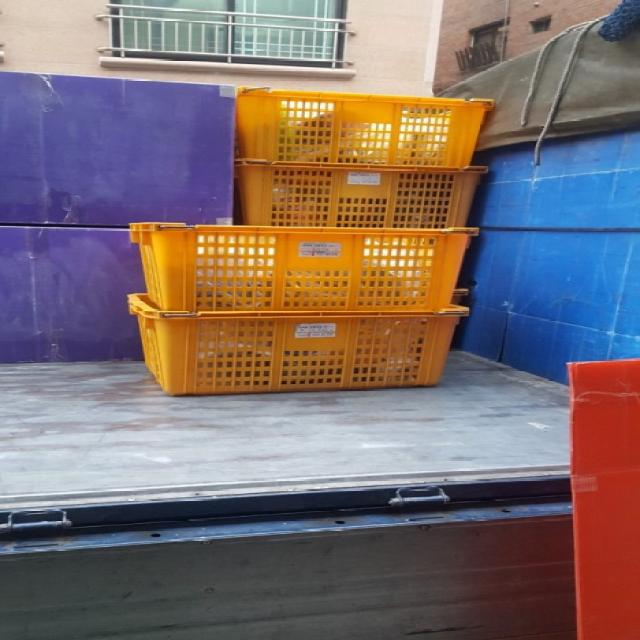basket: (124, 295, 469, 405), (129, 224, 479, 316), (233, 86, 493, 173), (234, 160, 486, 232)
